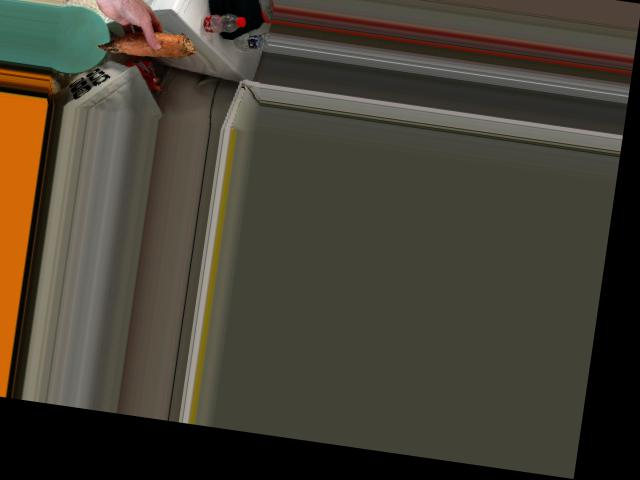sweet_potato: (96, 26, 200, 61)
